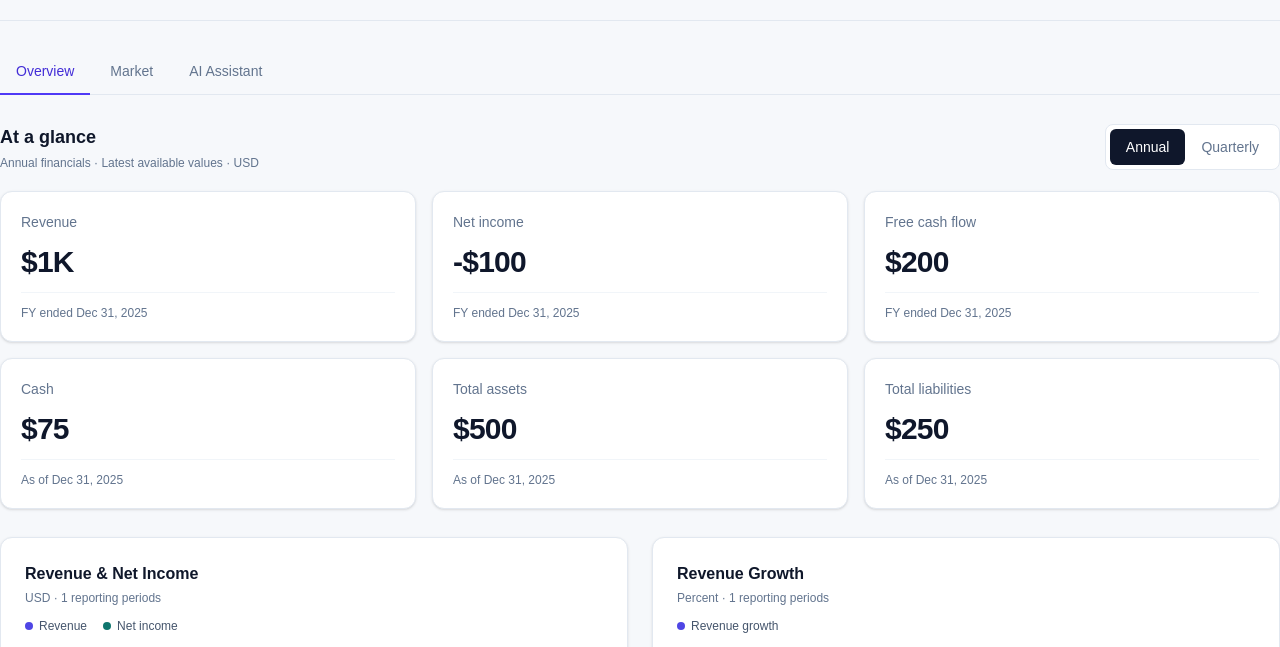
Test case: switching frequency changes cards, chart values, and table together
Click the button "Quarterly": (1230, 147) [1185,129,1275,165]
(page scrolled)
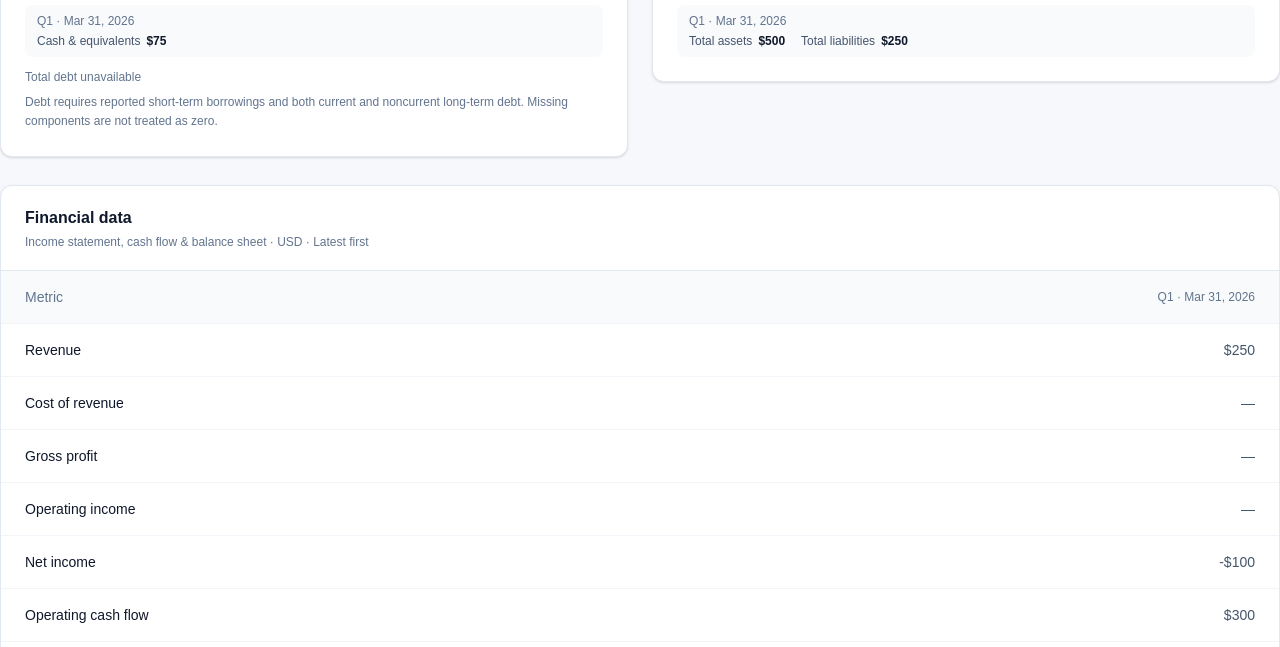
Expected: the column heading "Q1 · Mar 31, 2026" is shown, [700,271,1279,323]
Expected: the text "Dec 31, 2025" is gone
